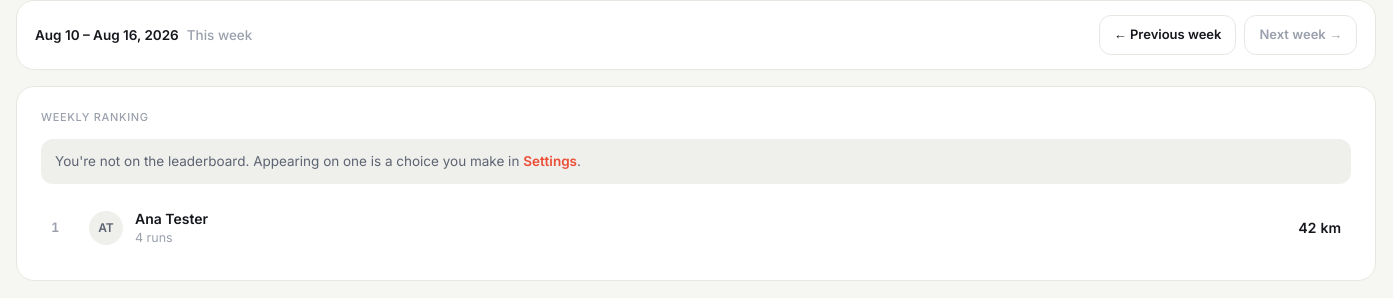
Test: LeaderboardView (RUN-70) › recomputes the ranking for the week the switcher picks (AC4)
Expected: the text "42 km" is shown, left=1298, top=217, right=1341, bottom=238
Expected: the button "Next week →" is disabled, left=1244, top=15, right=1357, bottom=54
Click the button "← Previous week".
click(1168, 35)  # box left=1099, top=15, right=1236, bottom=54
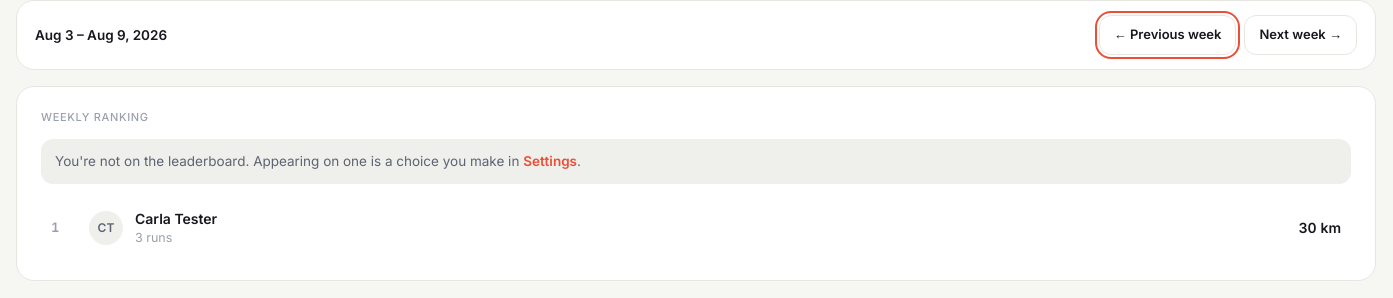
Result: the text "30 km" is shown at left=1298, top=217, right=1341, bottom=238
Result: the text "42 km" is gone
Result: the button "Next week →" is enabled at left=1244, top=15, right=1357, bottom=54
